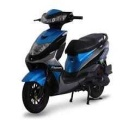bike: (19, 10, 116, 112)
